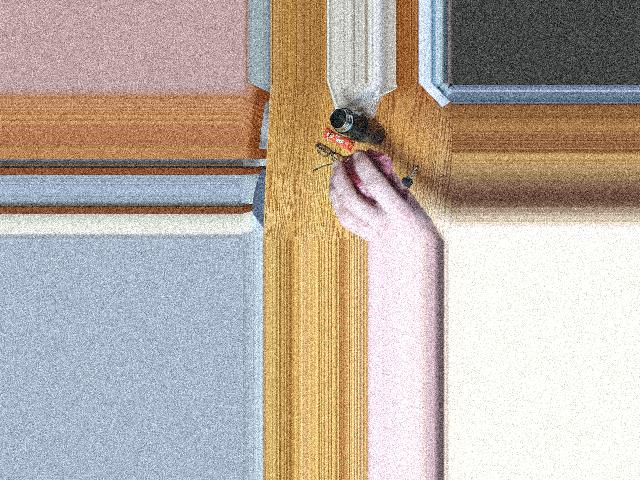onion: (339, 161, 403, 208)
